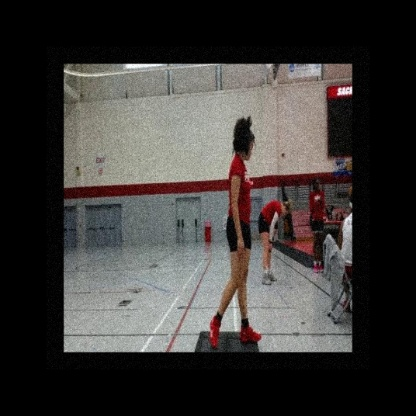lateral_flexion_left: (209, 112, 263, 352)
stance_width_broad: (209, 149, 262, 352)
